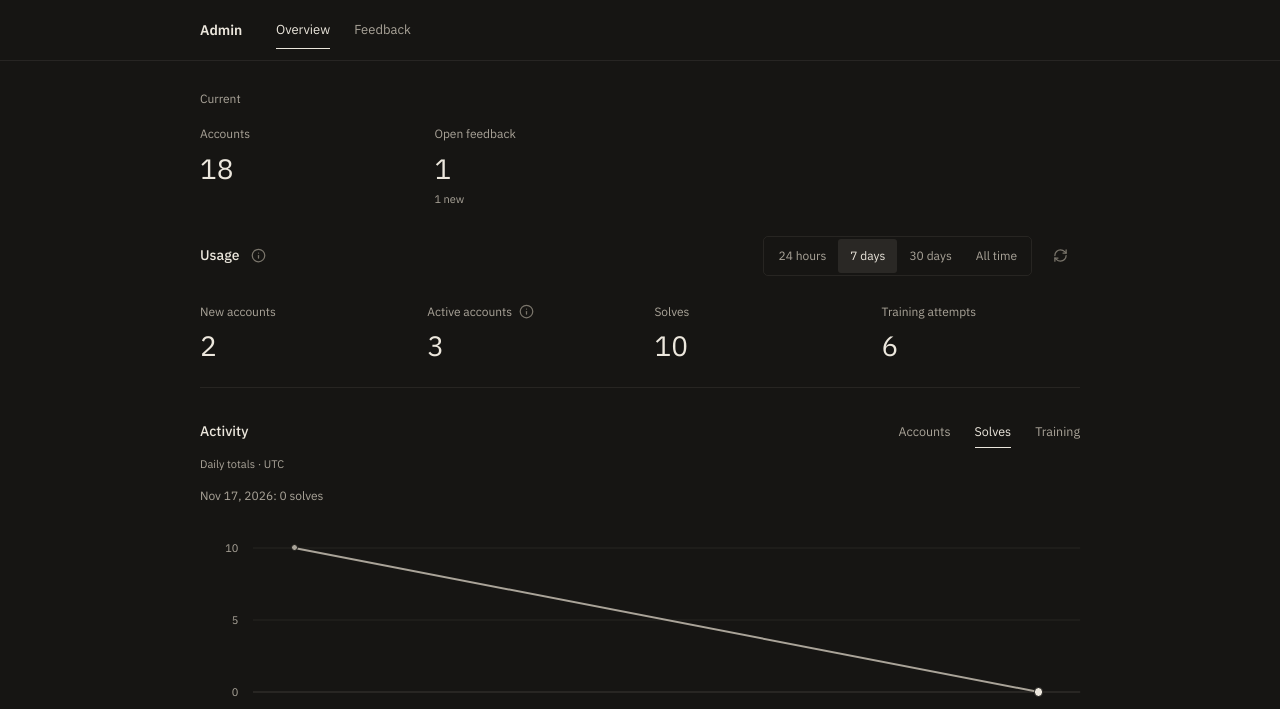
Scenario: keeps the shell, metrics and selected chart mounted while only the latest range response wins
Expected: the text "10" below "Active accounts" is shown, x1=654 y1=328 x2=688 y2=364
Click the radio button labelled "Training" at (1058, 432), box x1=1035 y1=412 x2=1080 y2=451
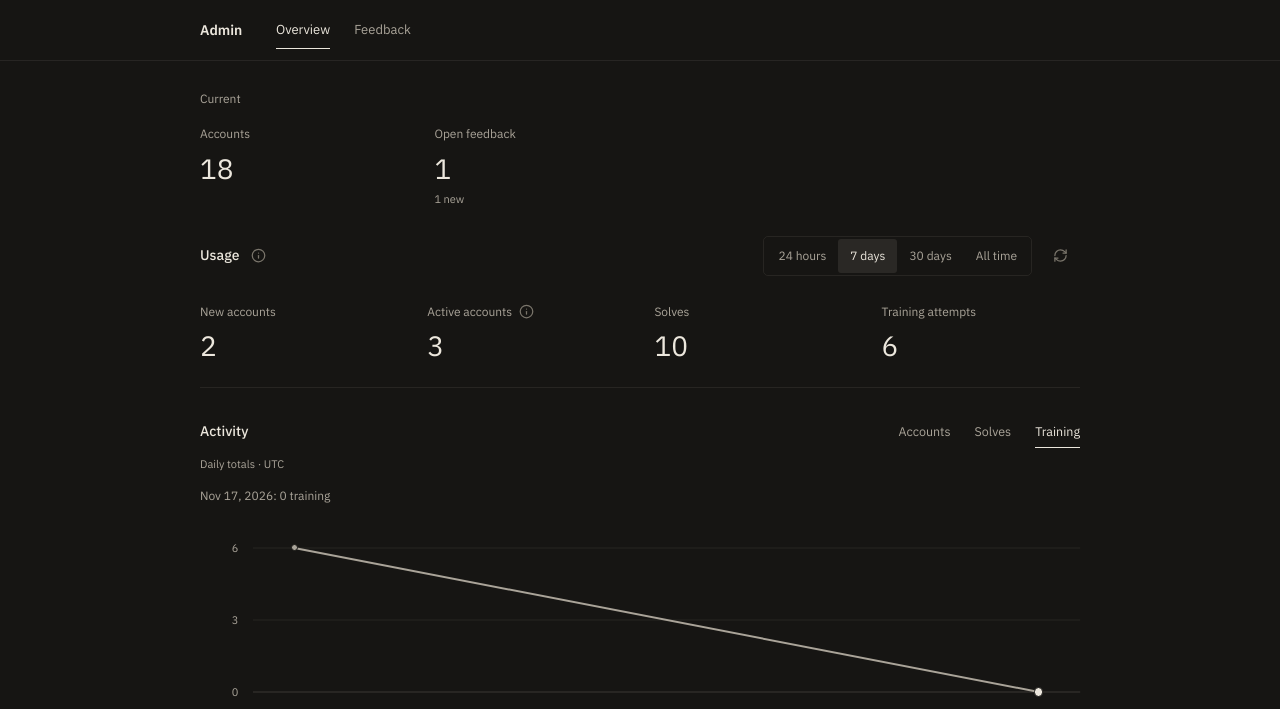
Click the radio button labelled "24 hours" at (802, 256), box x1=766 y1=239 x2=838 y2=273
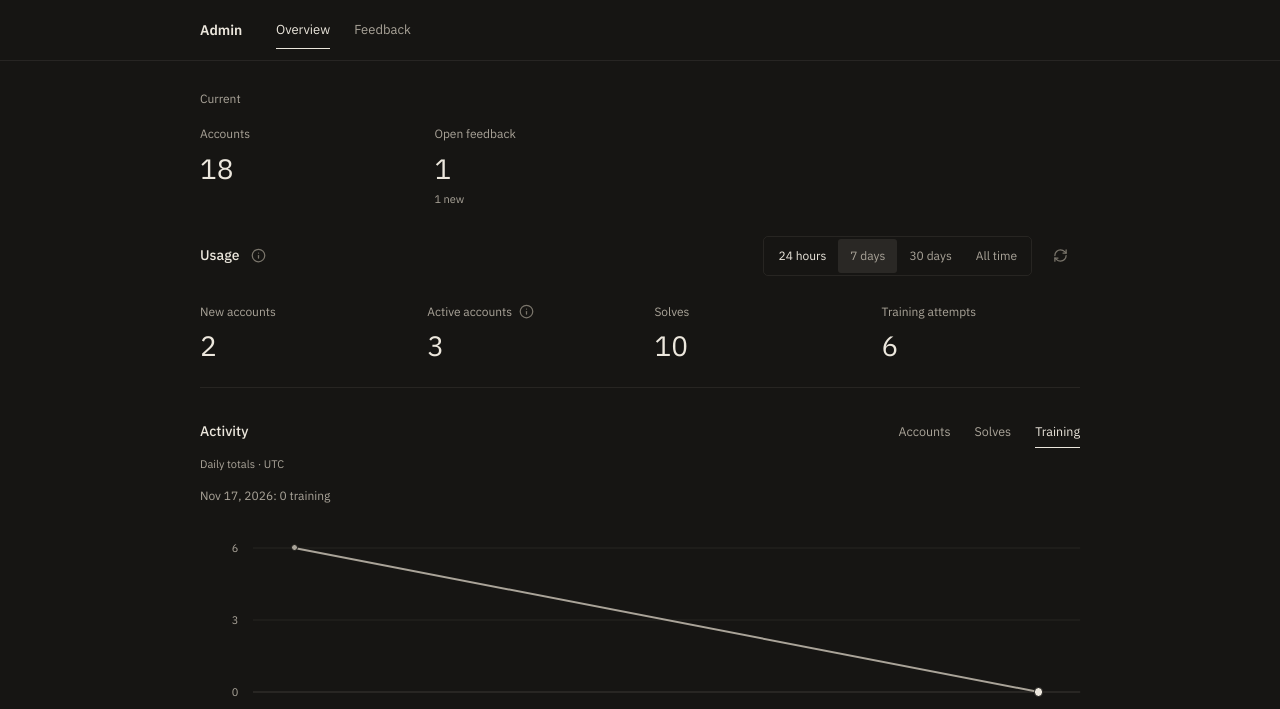
Expected: the text "10" is shown, x1=654 y1=328 x2=688 y2=364
Click the radio button labelled "7 days" at (868, 256), box x1=838 y1=239 x2=897 y2=273
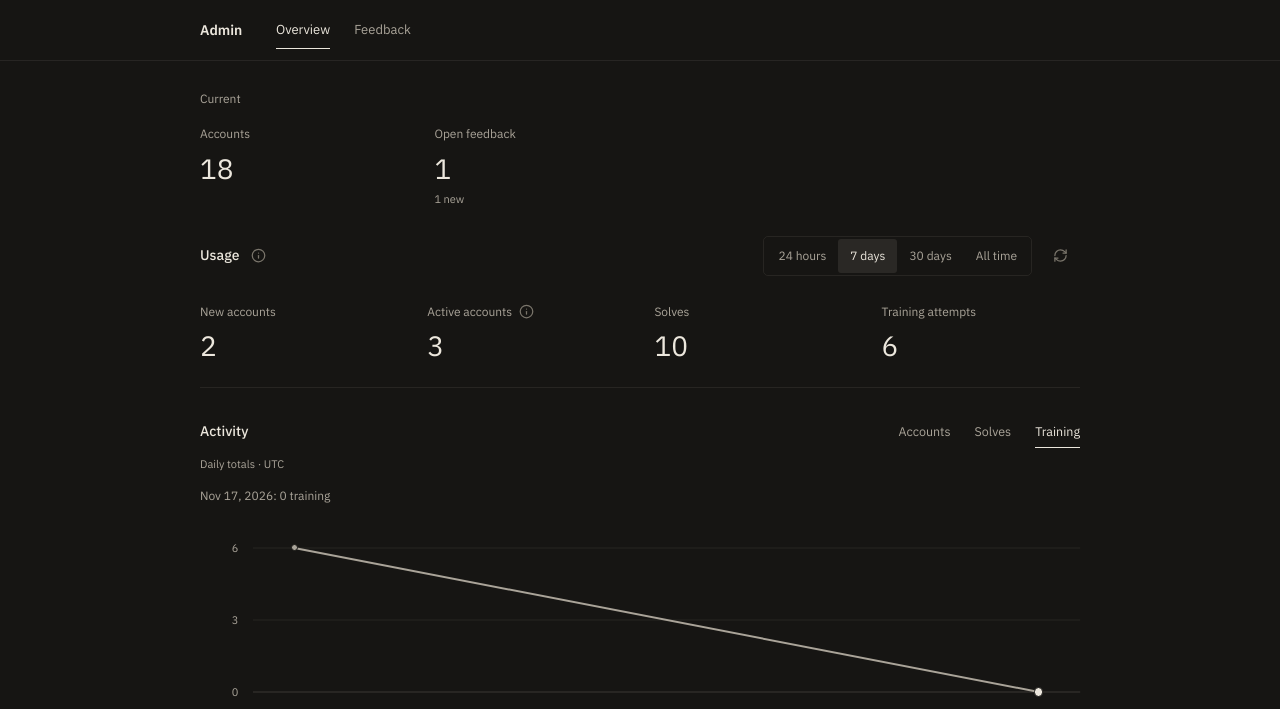
Expected: the text "10" is shown, x1=654 y1=328 x2=688 y2=364
Click the radio button labelled "30 days" at (931, 256), box x1=897 y1=239 x2=964 y2=273
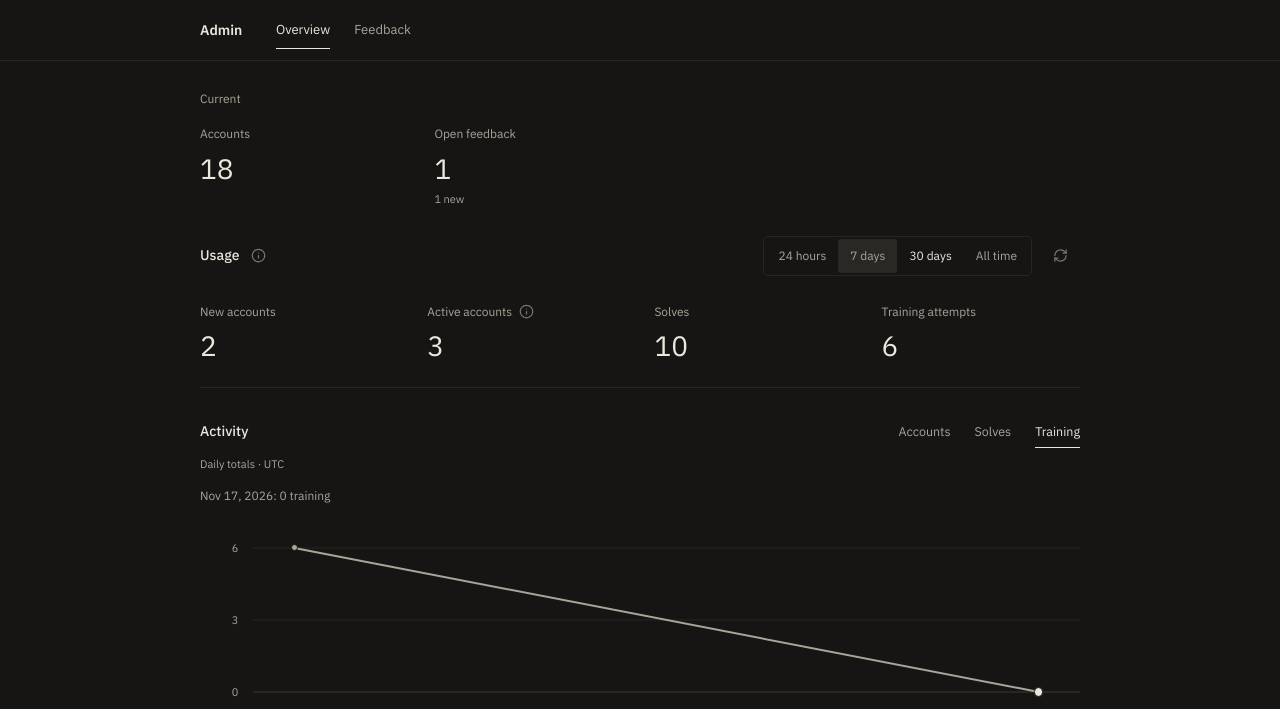
Expected: the text "10" is shown, x1=654 y1=328 x2=688 y2=364
Click the radio button labelled "All time" at (996, 256), box x1=964 y1=239 x2=1029 y2=273
(page scrolled)
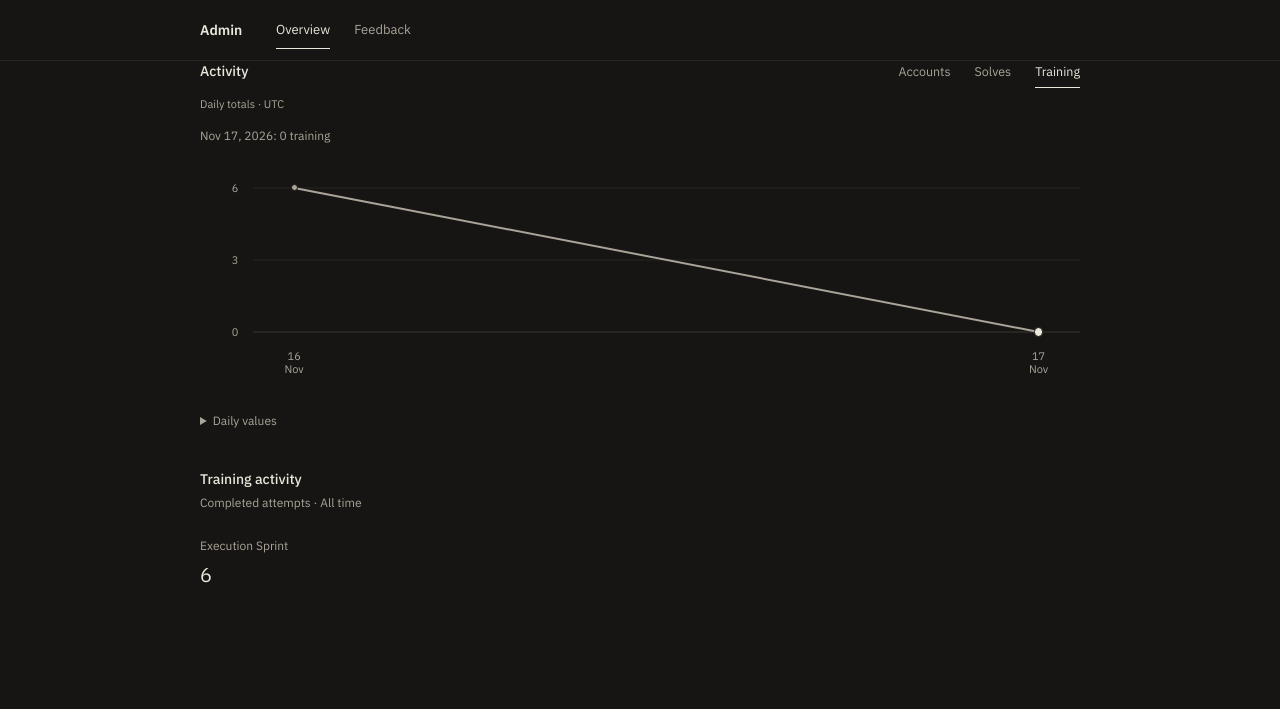
Expected: the text "Completed attempts · All time" is shown, x1=200 y1=495 x2=362 y2=510
